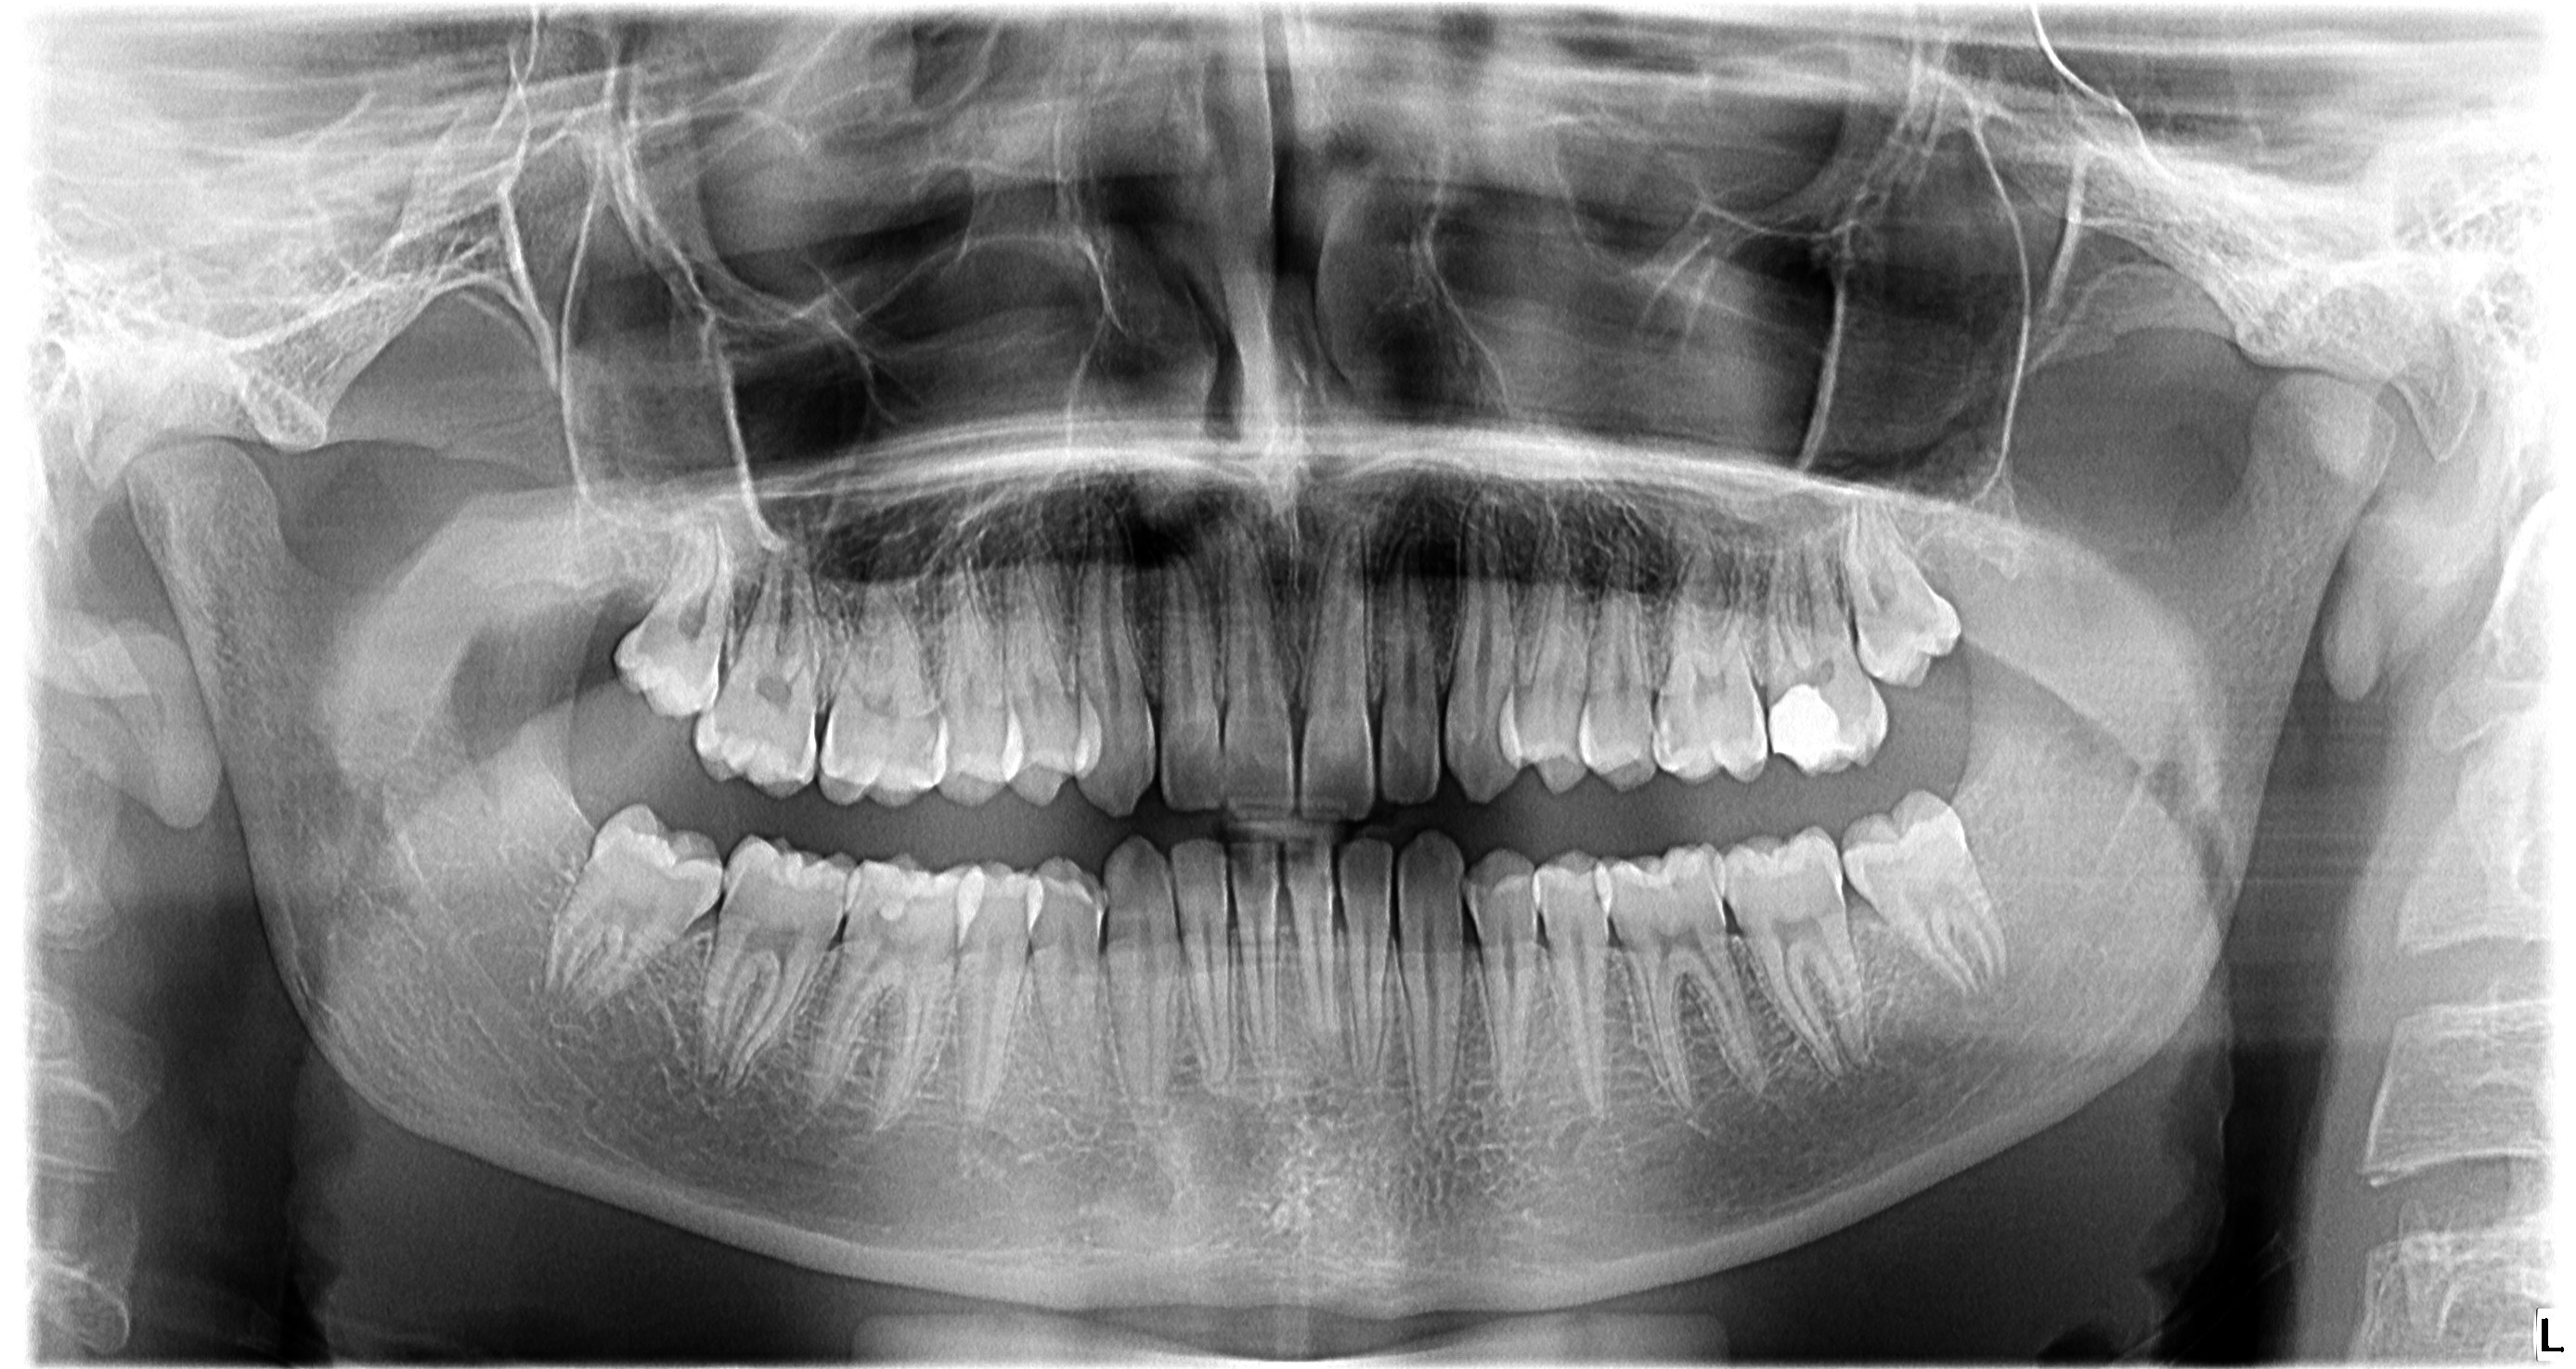OBT: (828, 843, 990, 942), (1758, 669, 1852, 775)
